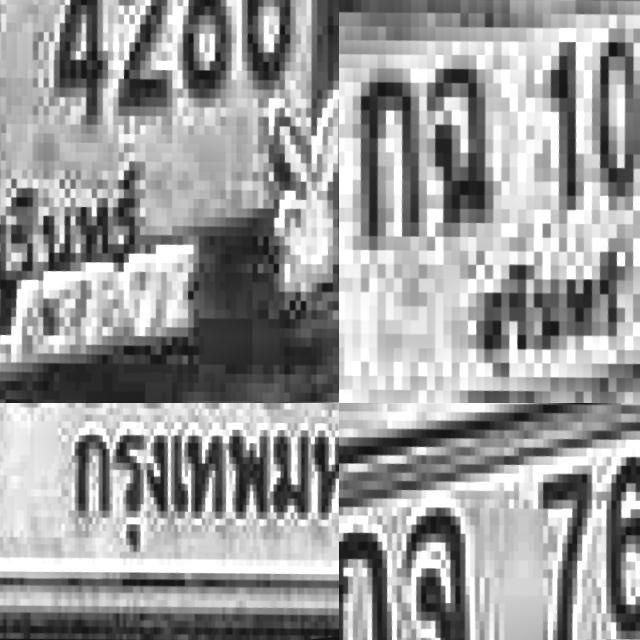license-plate: (0, 0, 339, 403), (339, 0, 640, 403), (0, 403, 339, 640), (339, 403, 640, 640)
